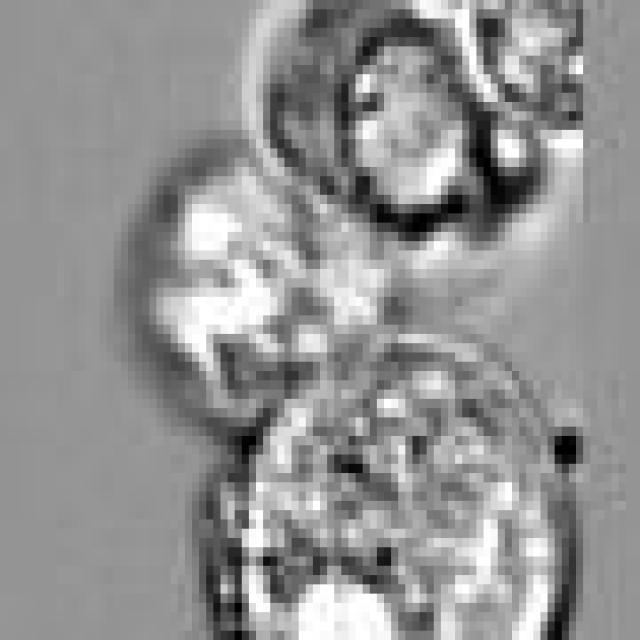Cancer Cell: (206, 334, 576, 631)
WBC: (142, 139, 384, 399), (256, 9, 476, 232), (462, 9, 590, 139)
